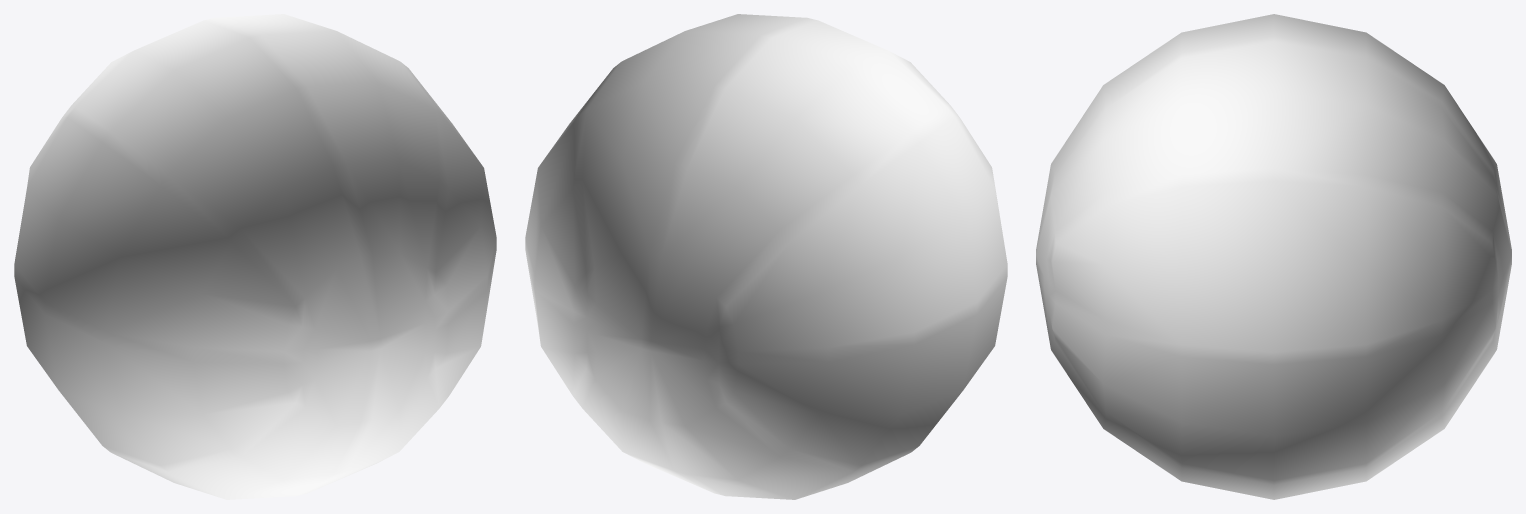
Rendered from view.ico.obj.
3 renders of one model, left to right at view 1: azimuth 30°, elevation 25°; view 2: azimuth 150°, elevation 25°; view 3: azimuth 270°, elevation 25°, orthographic.
Bounding box in the file's own units: 3.02 × 3.03 × 2.99.
1 material, 1 textured.
